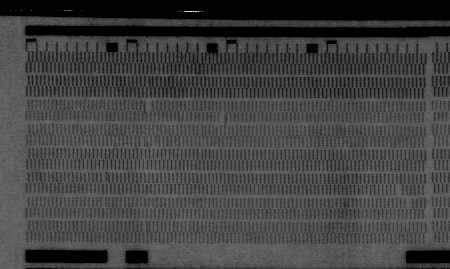Broken hole: (392, 182, 405, 196), (143, 100, 155, 113), (403, 197, 415, 209), (218, 112, 229, 123)
Oblique printing: (138, 134, 149, 148), (99, 171, 111, 183), (140, 221, 151, 232)
